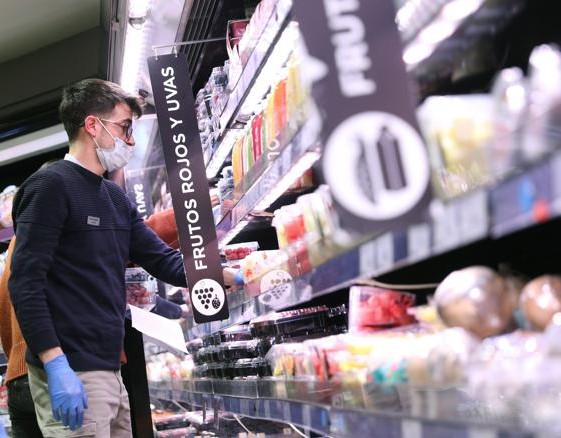with_mask: (68, 90, 146, 173)
